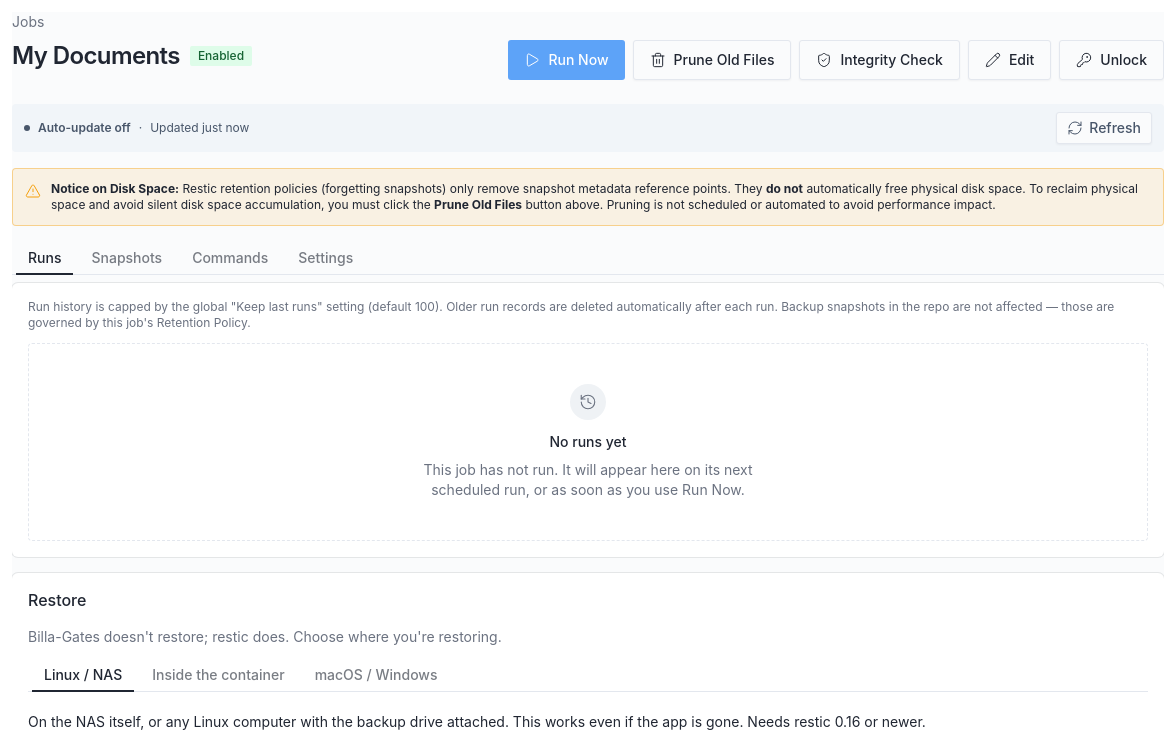
Test: JobDetail › Prune Now behavior › shows 409 error when a run is already in progress
Click the button "Prune Old Files": point(712, 60) top-left (632, 40), bottom-right (791, 80)
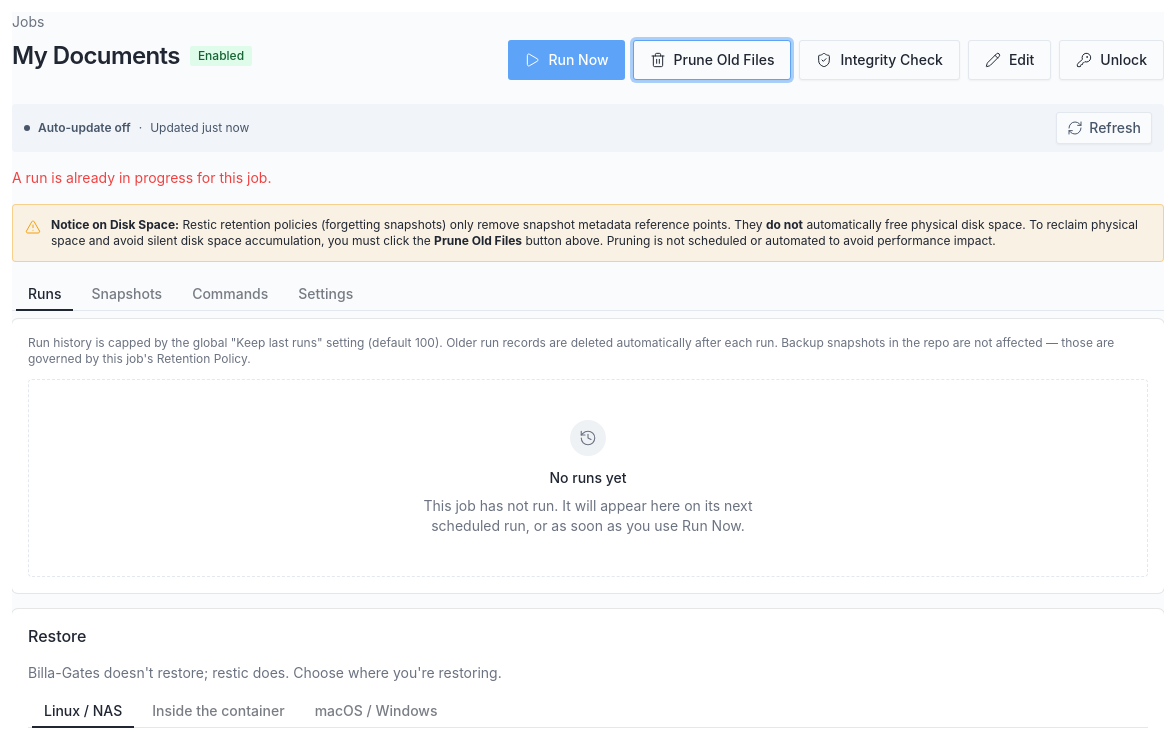
Expected: the text "A run is already in progress for this job." is shown, top-left (12, 169), bottom-right (271, 186)
